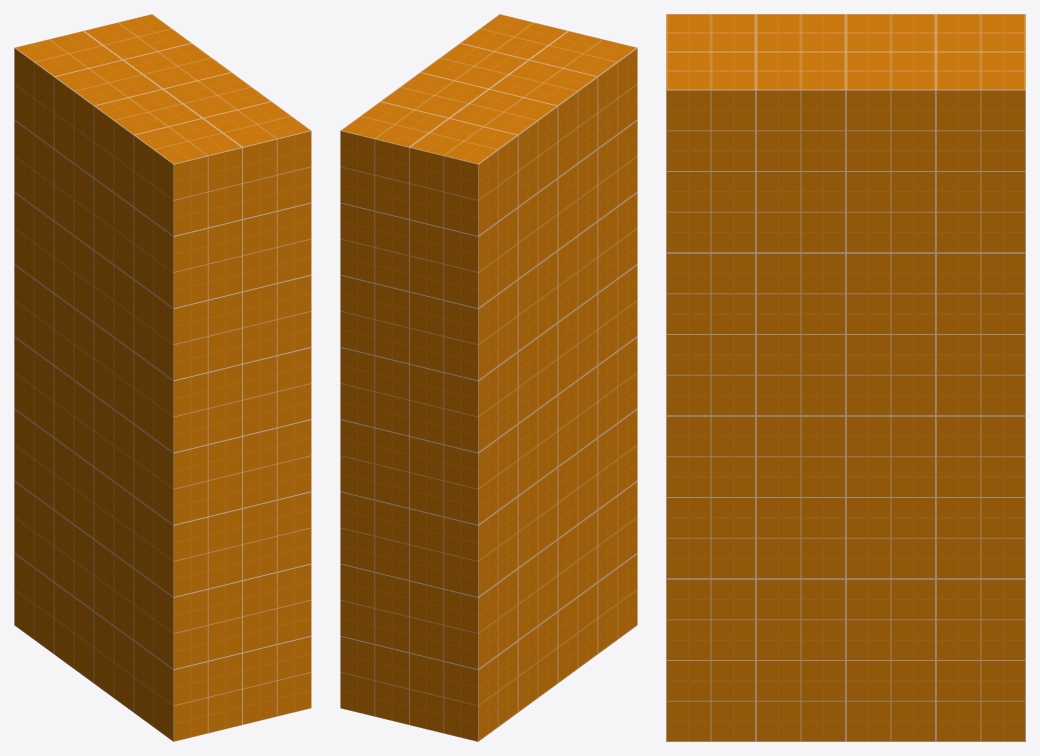
The model's file is Block_2x4x8.obj.
3 views of the same model, side by side, from view 1: azimuth 30°, elevation 25°; view 2: azimuth 150°, elevation 25°; view 3: azimuth 270°, elevation 25° (orthographic). The views are drawn at different scales.
Parts seen in each view (by area): view 1: Block_2x4x8_Cube.167; view 2: Block_2x4x8_Cube.167; view 3: Block_2x4x8_Cube.167.
Part boxes in pixels (x1=…): Block_2x4x8_Cube.167: x1=14, y1=14, x2=311, y2=741; Block_2x4x8_Cube.167: x1=340, y1=14, x2=637, y2=741; Block_2x4x8_Cube.167: x1=666, y1=14, x2=1025, y2=741.
Size of the model in its own units: 2 by 8 by 4.
1 material, 1 textured.
